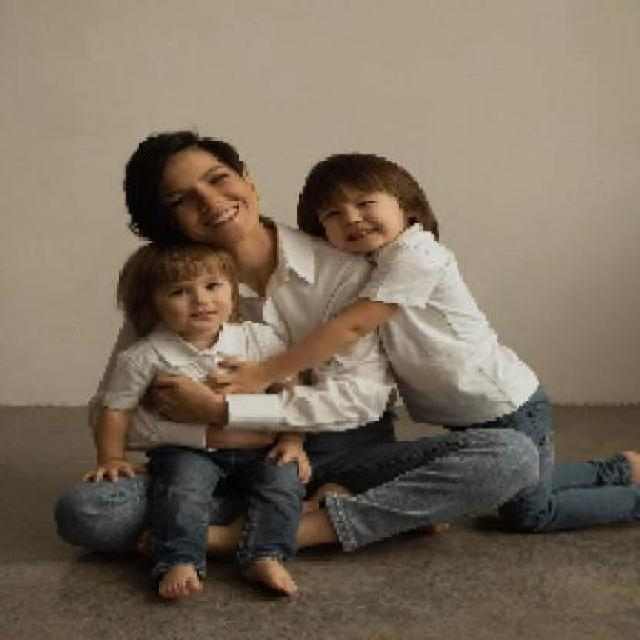child: (210, 153, 639, 533), (84, 242, 316, 602)
